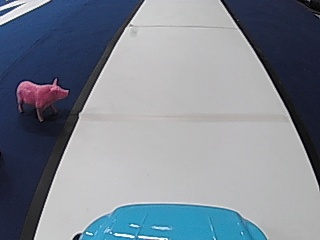pig: (14, 74, 69, 121)
